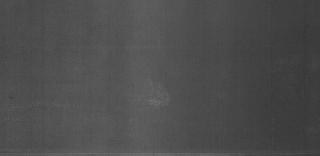welding line: (2, 148, 318, 156)
